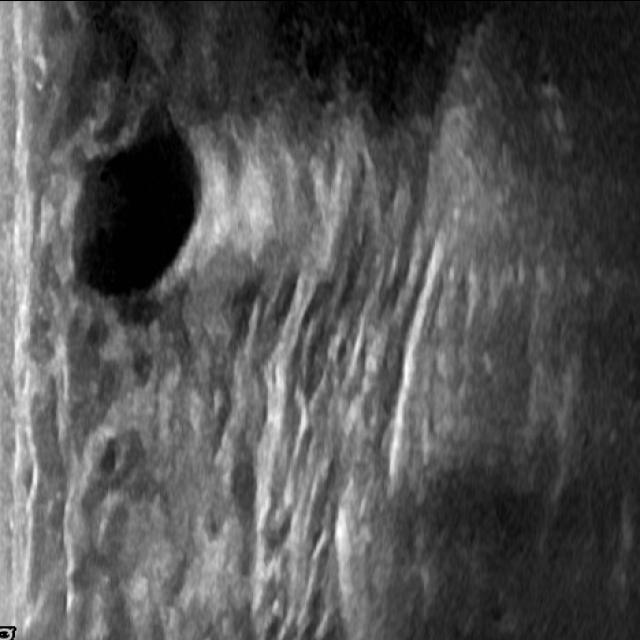Benign: (63, 126, 193, 292)
